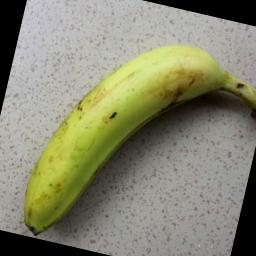Banana Ripe: (1, 0, 252, 256)
